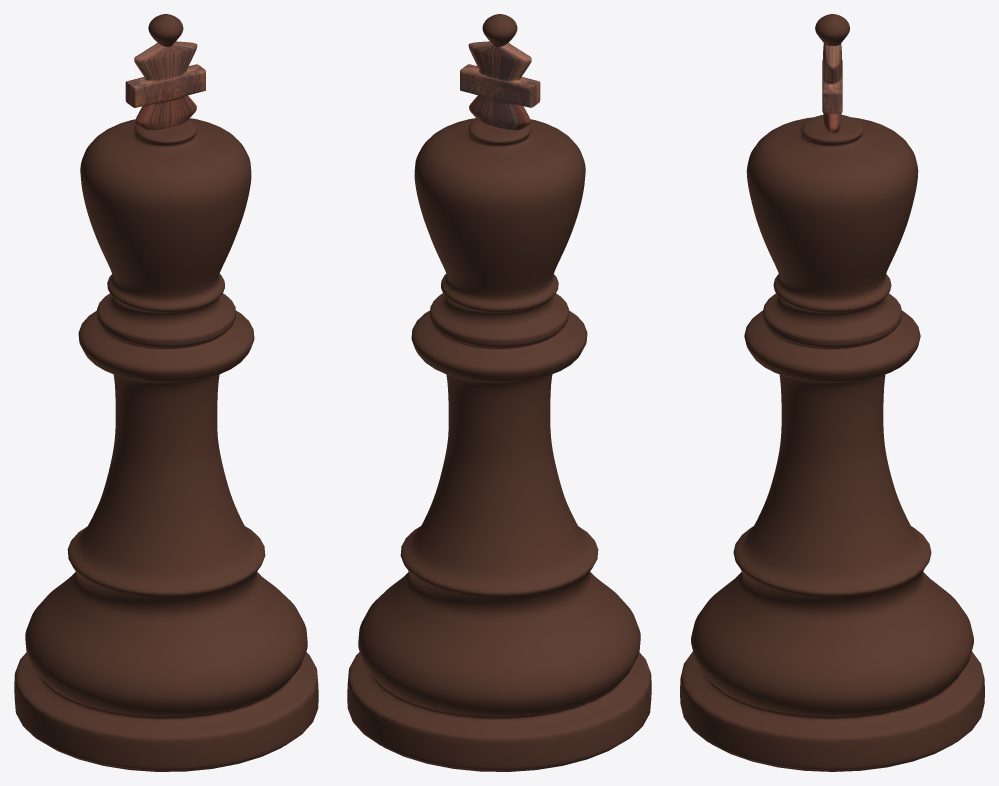
The model's file is Rey 1.fbx.
3 views of the same model, side by side, from view 1: azimuth 30°, elevation 25°; view 2: azimuth 150°, elevation 25°; view 3: azimuth 270°, elevation 25° (orthographic).
Parts seen in each view (by area): view 1: Rey.001; view 2: Rey.001; view 3: Rey.001.
Boxes of the visible parts, box(x1,y1,x2,y2) form: Rey.001: box(14, 14, 318, 771); Rey.001: box(347, 14, 651, 771); Rey.001: box(680, 14, 984, 771).
Bounding box in the file's own units: 81.73 × 207 × 81.73.
